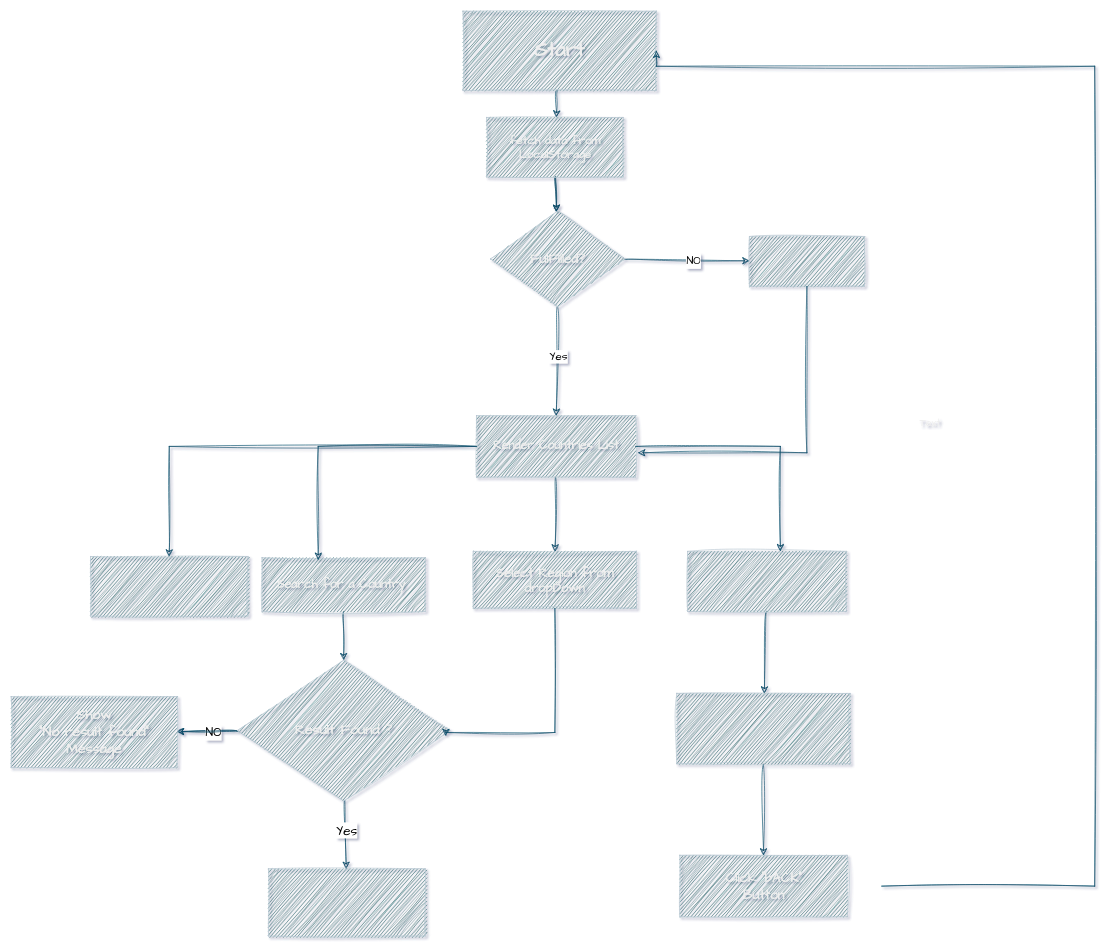
Some shapes in this 1116 by 951 pixel diagram are drawn without their labels. The centre of each missing label's shape, as x and y in pixels:
"Choose a Country from the List" belongs at pixel 766 581.
"Fetch Data from Api End save it in LocalStorage" belongs at pixel 806 261.
"Open new Page with the Counry details" belongs at pixel 763 728.
"Render result list" belongs at pixel 346 902.
"Toggle Theme" belongs at pixel 169 586.
